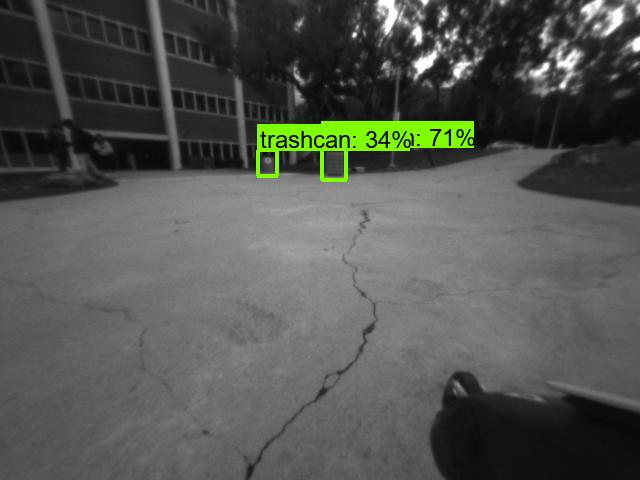trashcan: (326, 150, 345, 174), (263, 152, 276, 168)
